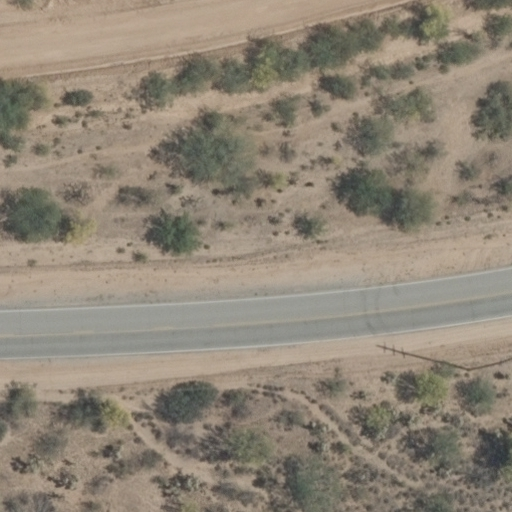DT: (460, 350, 512, 374)
